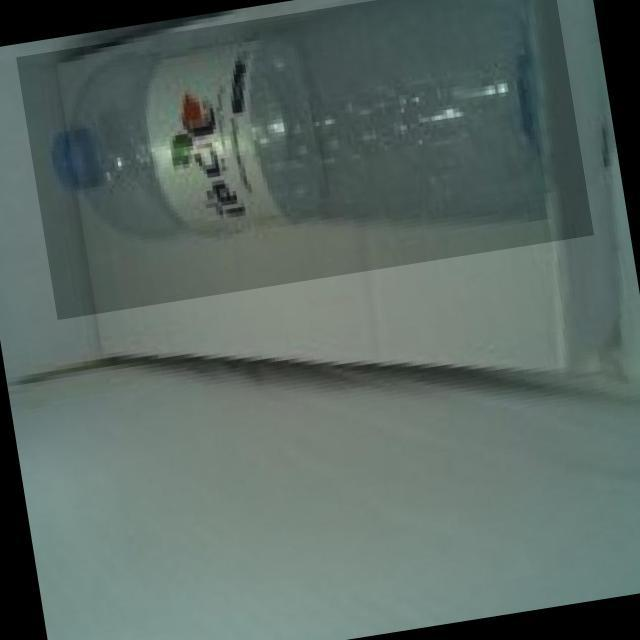good: (15, 0, 593, 320)
